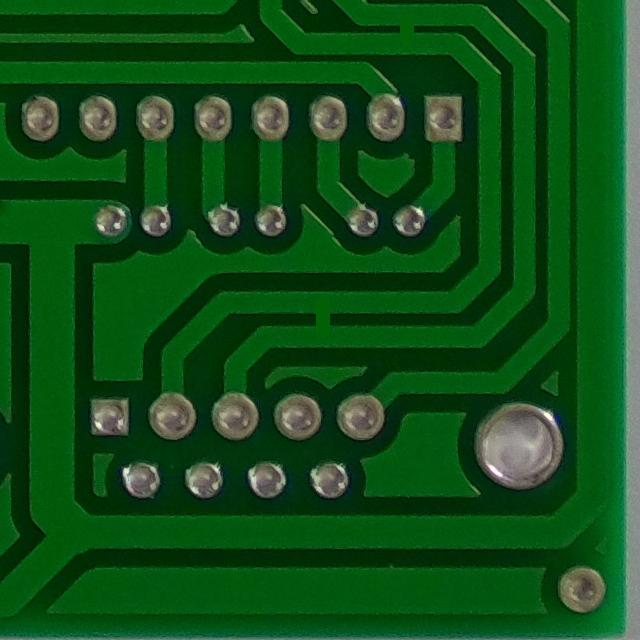short: (274, 278, 367, 362)
